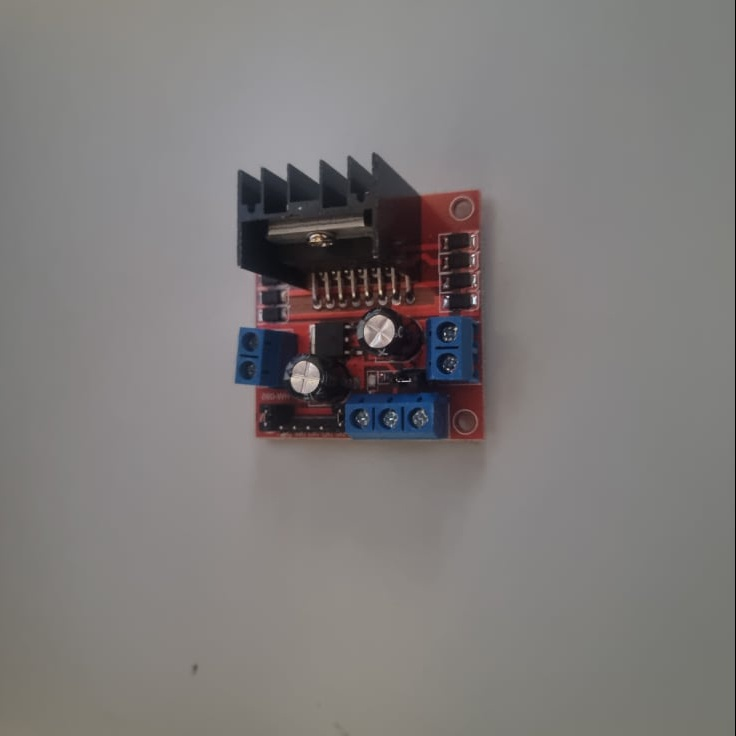MOTOR: (237, 150, 491, 444)
